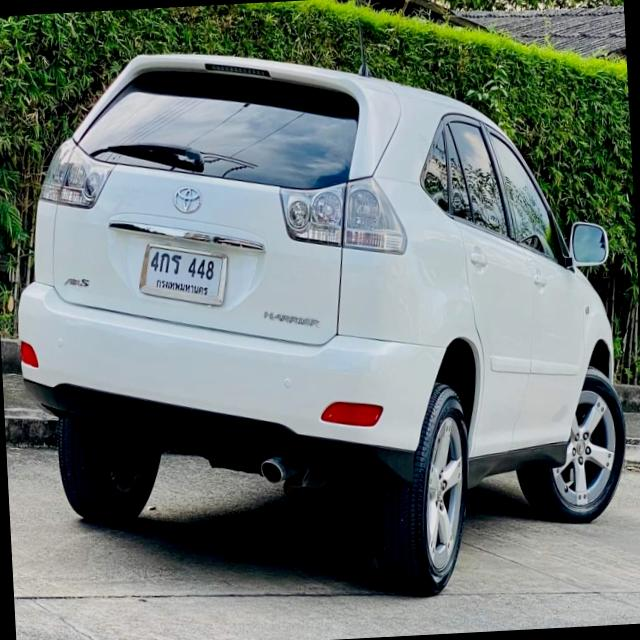license_plate: (138, 236, 231, 314)
